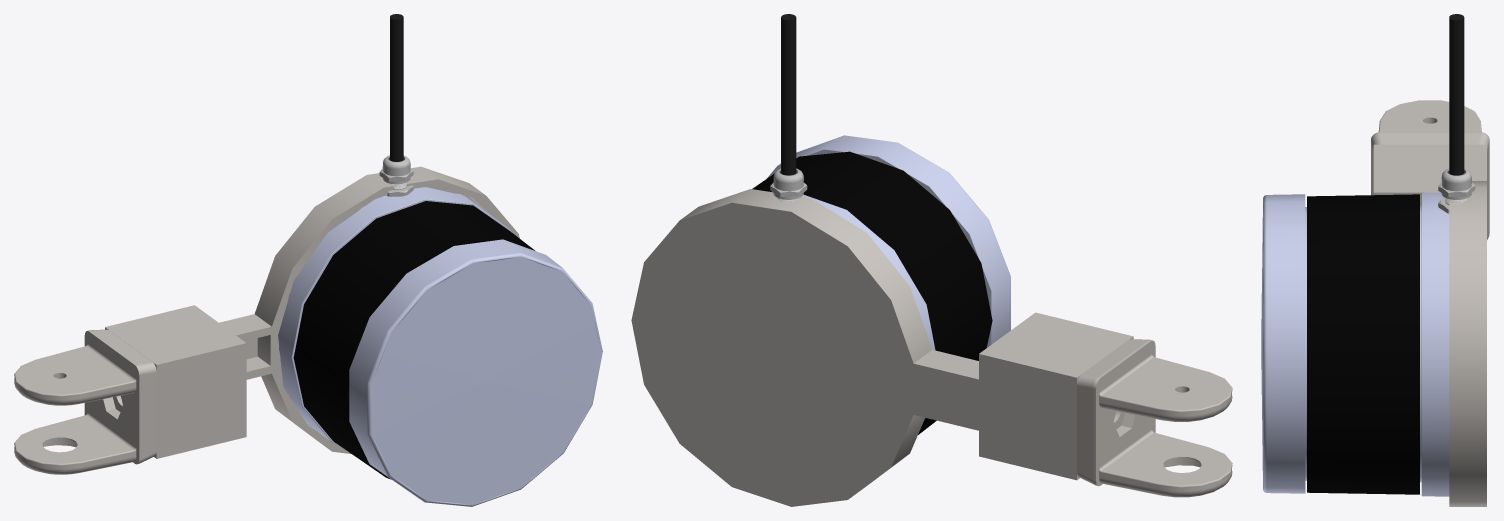
File: lidar.obj
The picture shows the model from 3 angles, left to right: view 1: azimuth 30°, elevation 25°; view 2: azimuth 150°, elevation 25°; view 3: azimuth 270°, elevation 25°; orthographic projection. The views are drawn at different scales.
Parts seen in each view (by area): view 1: mesh220, mesh213, mesh272, mesh218, mesh265, mesh208, mesh275, mesh262, mesh53, mesh48, mesh219, mesh8 (+4 smaller); view 2: mesh271, mesh213, mesh265, mesh218, mesh275, mesh53, mesh48, mesh8, mesh106, mesh13, mesh208, mesh263 (+2 smaller); view 3: mesh213, mesh265, mesh218, mesh208, mesh275, mesh106, mesh53, mesh219, mesh14, mesh211, mesh215, mesh220 (+4 smaller).
Part boxes in pixels (box(x1,y1,x2,y2)): mesh220: box(372, 257, 600, 504); mesh213: box(293, 201, 534, 477); mesh272: box(156, 343, 246, 458); mesh218: box(349, 239, 562, 488); mesh265: box(254, 166, 485, 447); mesh208: box(278, 187, 507, 440); mesh275: box(105, 305, 245, 364); mesh262: box(236, 179, 519, 453); mesh53: box(15, 346, 132, 394); mesh48: box(15, 415, 132, 463); mesh219: box(367, 252, 602, 506); mesh8: box(84, 331, 139, 464); mesh271: box(631, 202, 1076, 506); mesh213: box(752, 151, 992, 434); mesh265: box(680, 189, 932, 491); mesh218: box(778, 135, 1010, 343); mesh275: box(979, 312, 1132, 377); mesh53: box(1103, 357, 1230, 410); mesh48: box(1103, 433, 1230, 485); mesh8: box(1096, 340, 1155, 486); mesh106: box(781, 17, 796, 175); mesh13: box(1077, 386, 1093, 480); mesh208: box(802, 194, 935, 418); mesh263: box(914, 350, 978, 379); mesh213: box(1307, 194, 1419, 494); mesh265: box(1449, 181, 1486, 506); mesh218: box(1266, 194, 1304, 493); mesh208: box(1422, 192, 1449, 496); mesh275: box(1373, 144, 1486, 192); mesh106: box(1449, 18, 1464, 175); mesh53: box(1380, 100, 1480, 132); mesh219: box(1263, 195, 1266, 492); mesh14: box(1379, 133, 1480, 144); mesh211: box(1420, 205, 1421, 482); mesh215: box(1305, 207, 1306, 480); mesh220: box(1261, 217, 1262, 470).
Bounding box in the file's own units: 0.2202 × 0.1762 × 0.0769.
